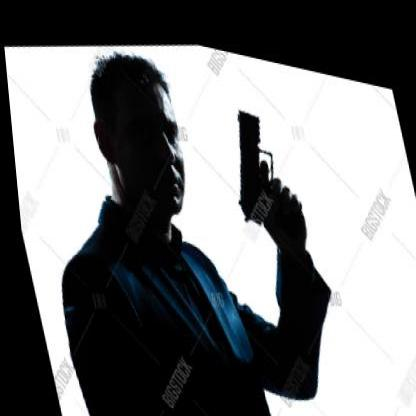pistol: (210, 82, 294, 224)
